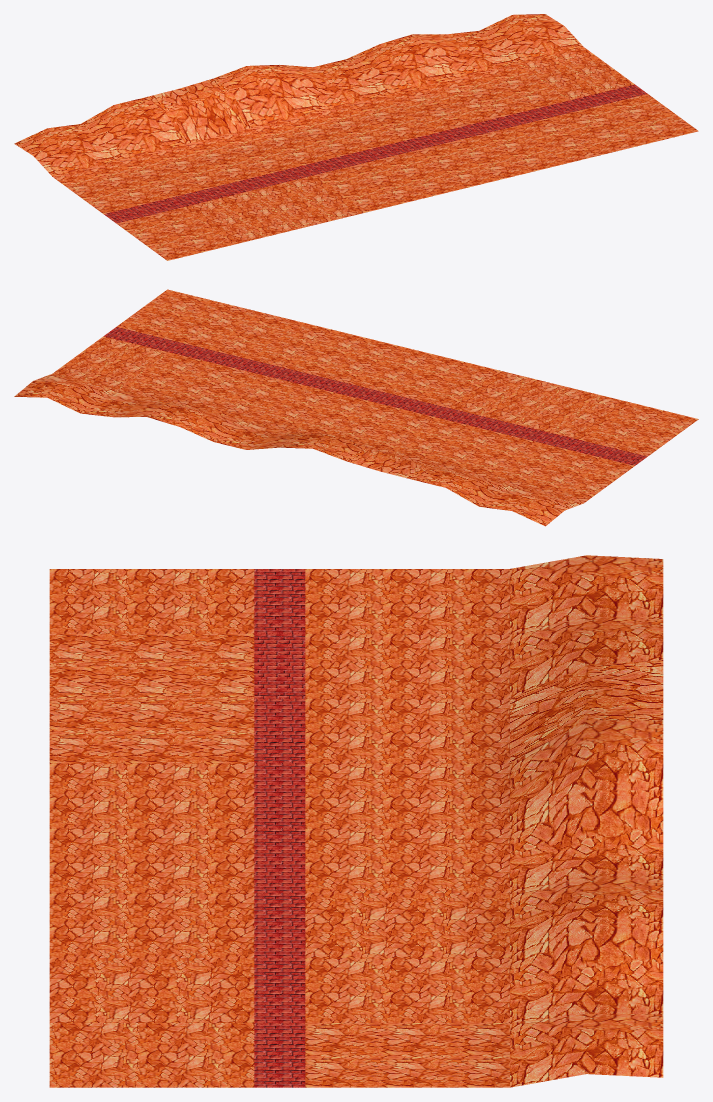
File: Brick Road.fbx
3 renders of one model, top to bottom at view 1: azimuth 30°, elevation 25°; view 2: azimuth 150°, elevation 25°; view 3: azimuth 270°, elevation 25°, orthographic. The views are drawn at different scales.
Visible parts, largest first — view 1: Lava Floor 1; view 2: Lava Floor 1; view 3: Lava Floor 1.
Boxes of the visible parts, x1,y1,x2,y2 form: Lava Floor 1: [14, 14, 698, 260]; Lava Floor 1: [14, 289, 698, 526]; Lava Floor 1: [49, 555, 663, 1087].
Size of the model in its own units: 100 by 200 by 9.33.
